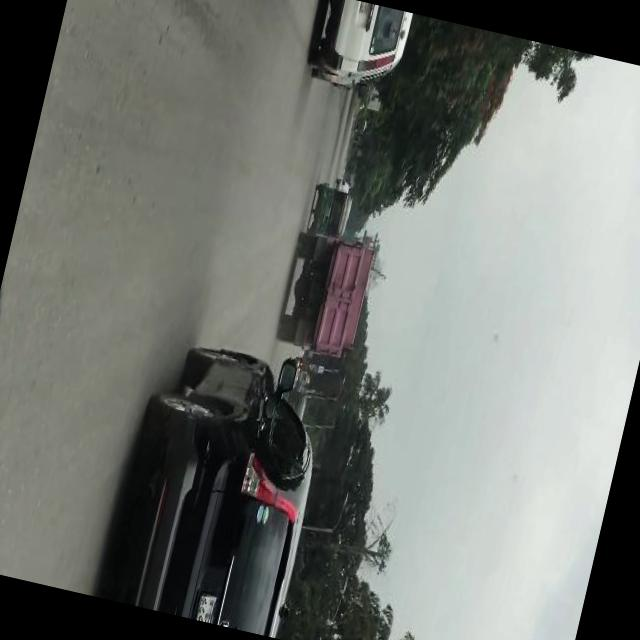car: (101, 332, 347, 640), (332, 180, 350, 195)
motorcycle: (304, 182, 354, 242), (348, 115, 368, 136), (292, 358, 312, 376)
truck: (272, 228, 376, 362), (300, 0, 413, 108)
